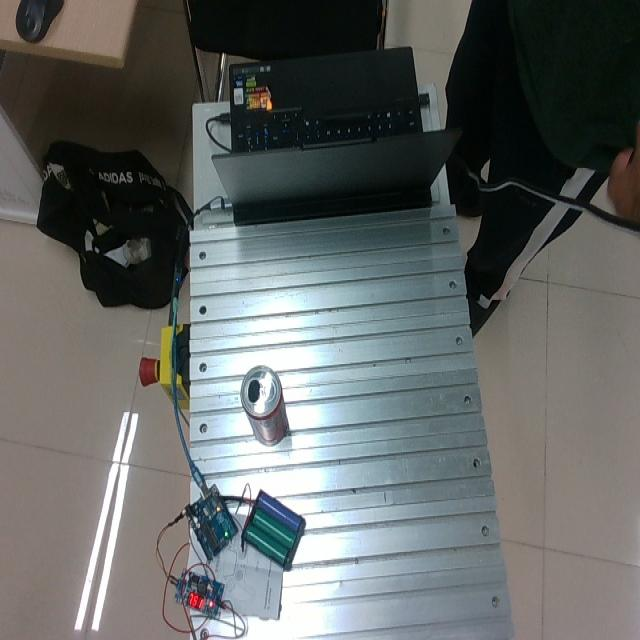coca: (241, 364, 288, 445)
